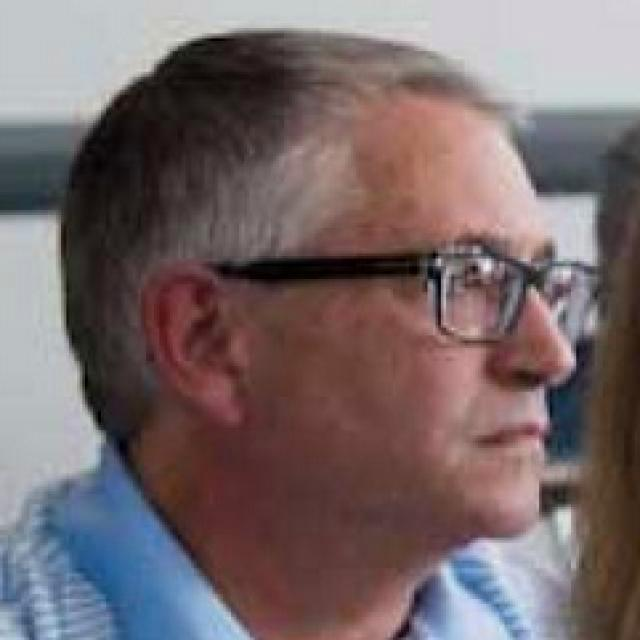Looking forward: (234, 86, 581, 542)
